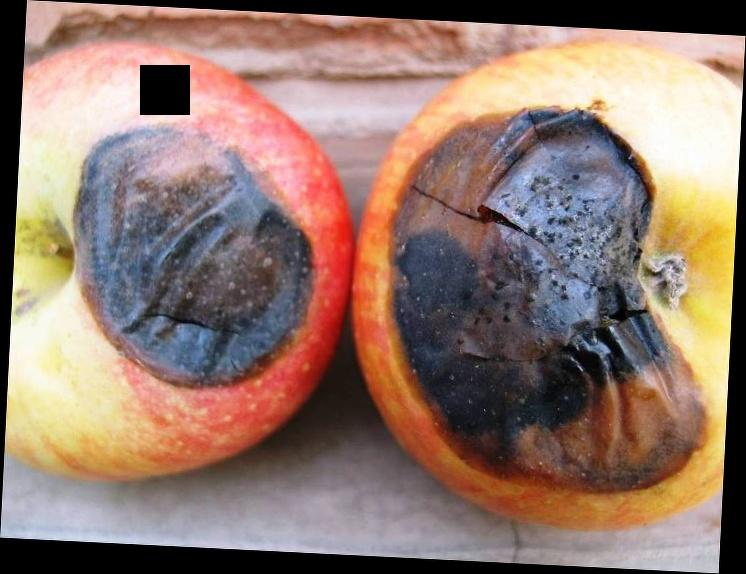rotten apple: (349, 41, 733, 536), (14, 31, 352, 503)
